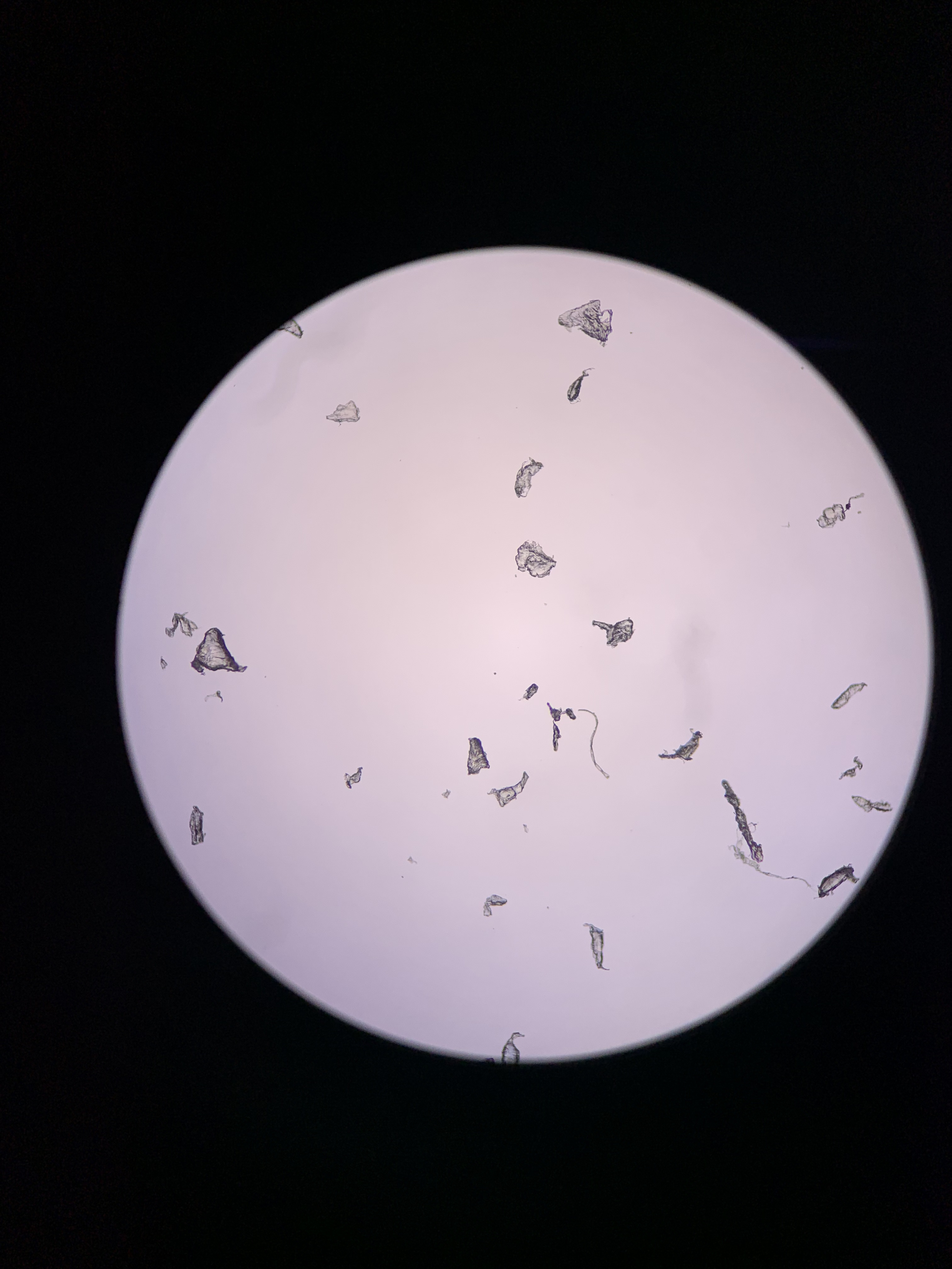microplastic: (721, 779, 812, 889), (190, 627, 248, 675), (558, 300, 613, 347), (578, 709, 609, 779), (812, 863, 860, 900), (817, 493, 865, 529), (658, 728, 703, 764), (515, 539, 556, 578), (487, 771, 529, 807), (547, 702, 576, 752), (592, 617, 636, 649), (583, 922, 610, 971), (514, 457, 544, 498), (830, 682, 868, 710), (567, 368, 595, 404), (326, 400, 360, 427), (467, 737, 490, 776), (165, 612, 198, 637), (850, 795, 893, 813), (502, 1033, 526, 1065), (189, 805, 206, 845), (838, 756, 863, 780), (276, 318, 304, 339), (483, 894, 507, 916), (344, 767, 363, 789), (518, 683, 538, 701), (204, 690, 224, 702), (160, 656, 168, 670), (441, 789, 451, 799), (407, 856, 418, 864), (523, 824, 528, 833)
